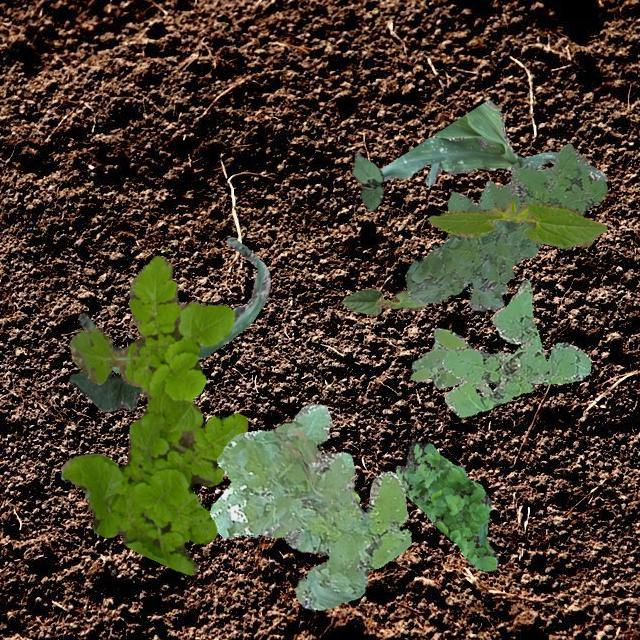crop: (78, 236, 270, 372), (378, 98, 606, 185), (427, 200, 606, 246), (68, 368, 144, 411), (341, 288, 426, 316), (352, 152, 382, 210)
weed: (60, 254, 246, 574), (208, 402, 410, 608), (404, 143, 606, 310), (442, 278, 590, 416), (394, 440, 498, 570), (410, 328, 512, 396), (351, 488, 358, 501), (431, 340, 438, 350)
